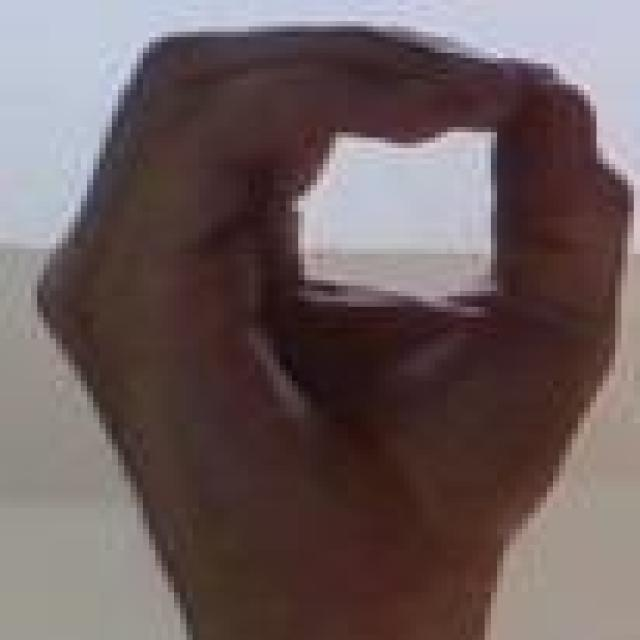O: (29, 14, 640, 548)
